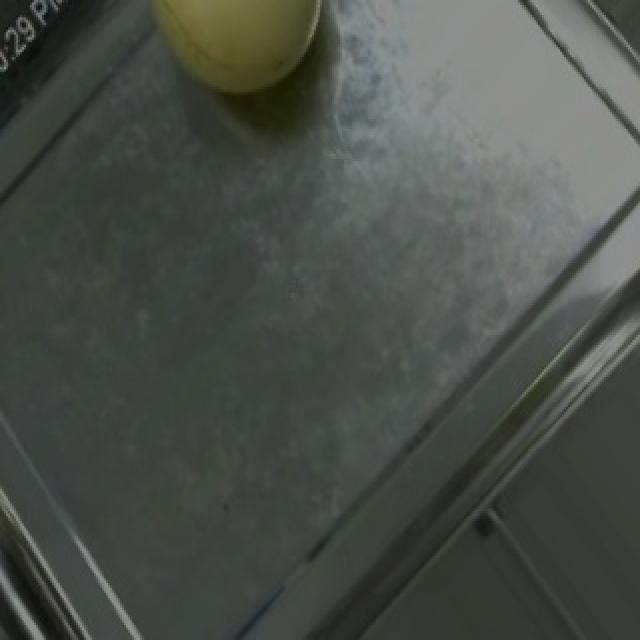Fruit: (110, 0, 358, 131)
